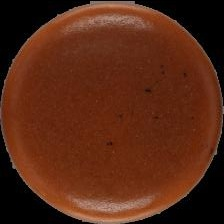51079-130: (0, 0, 224, 224)
